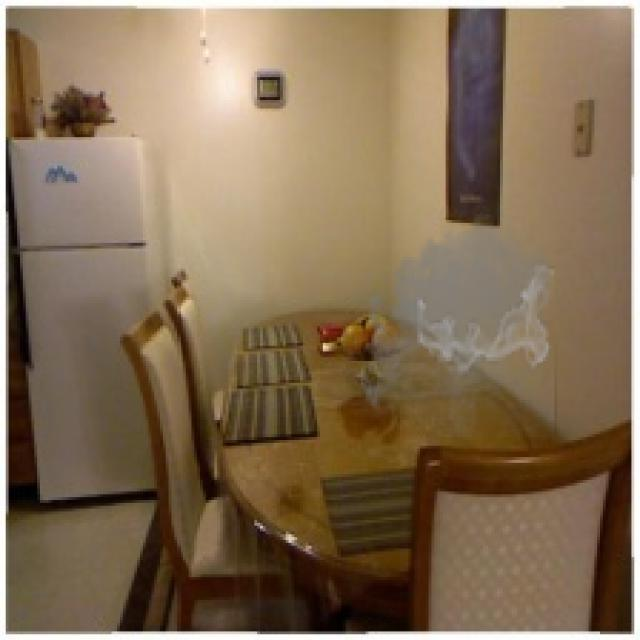Smoke: (354, 202, 557, 438)
